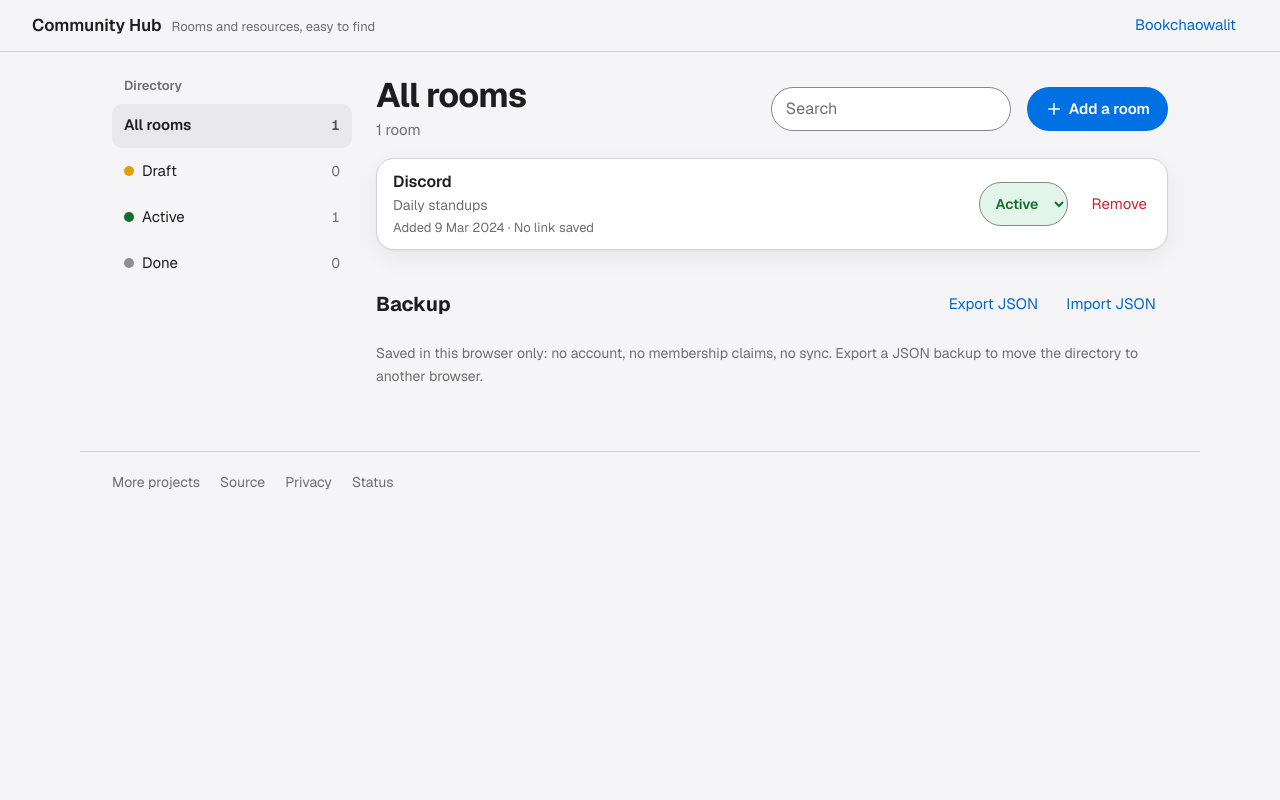
Test: state, search, remove and undo › Escape closes the toast
Step 1. Click the button with aria-label "Remove Discord" → [1119, 204], box [1080,182,1159,226]
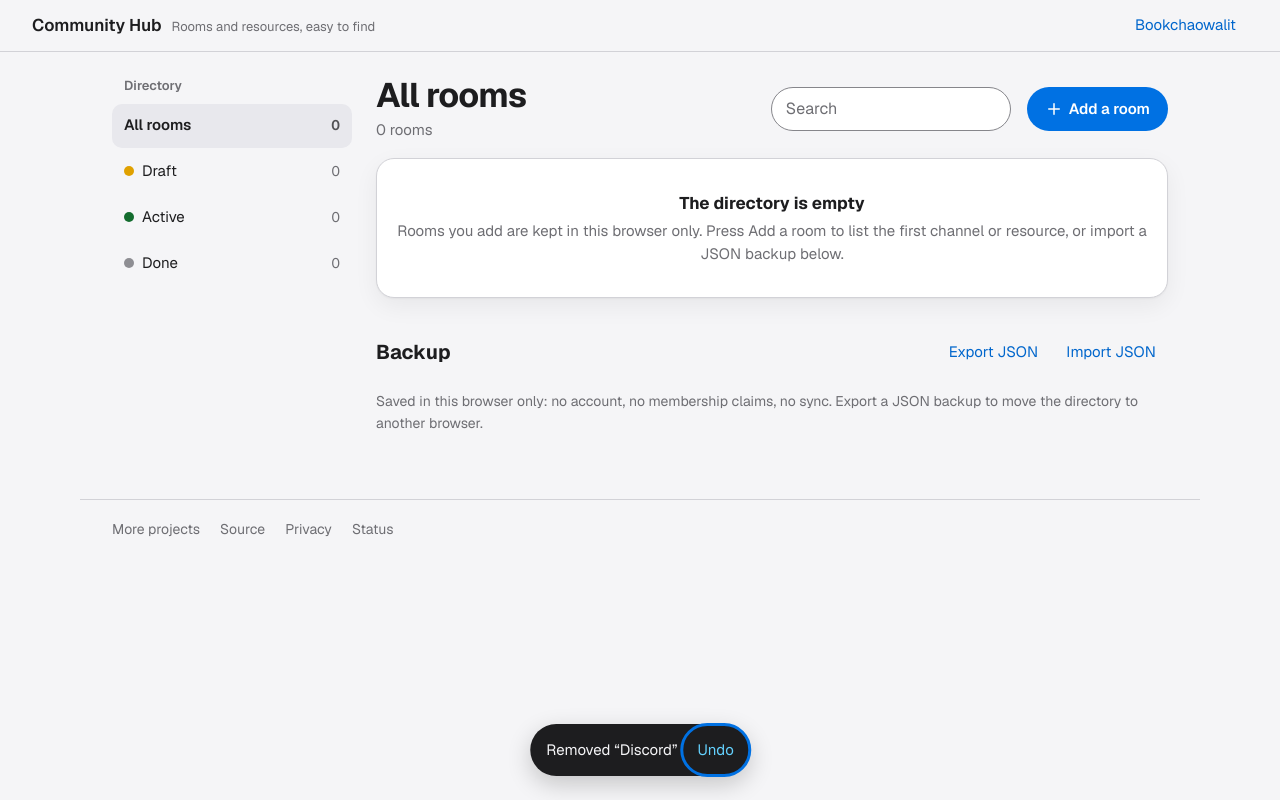
Step 2. Press Escape in the element with class "as-toast", box [530,724,750,776]
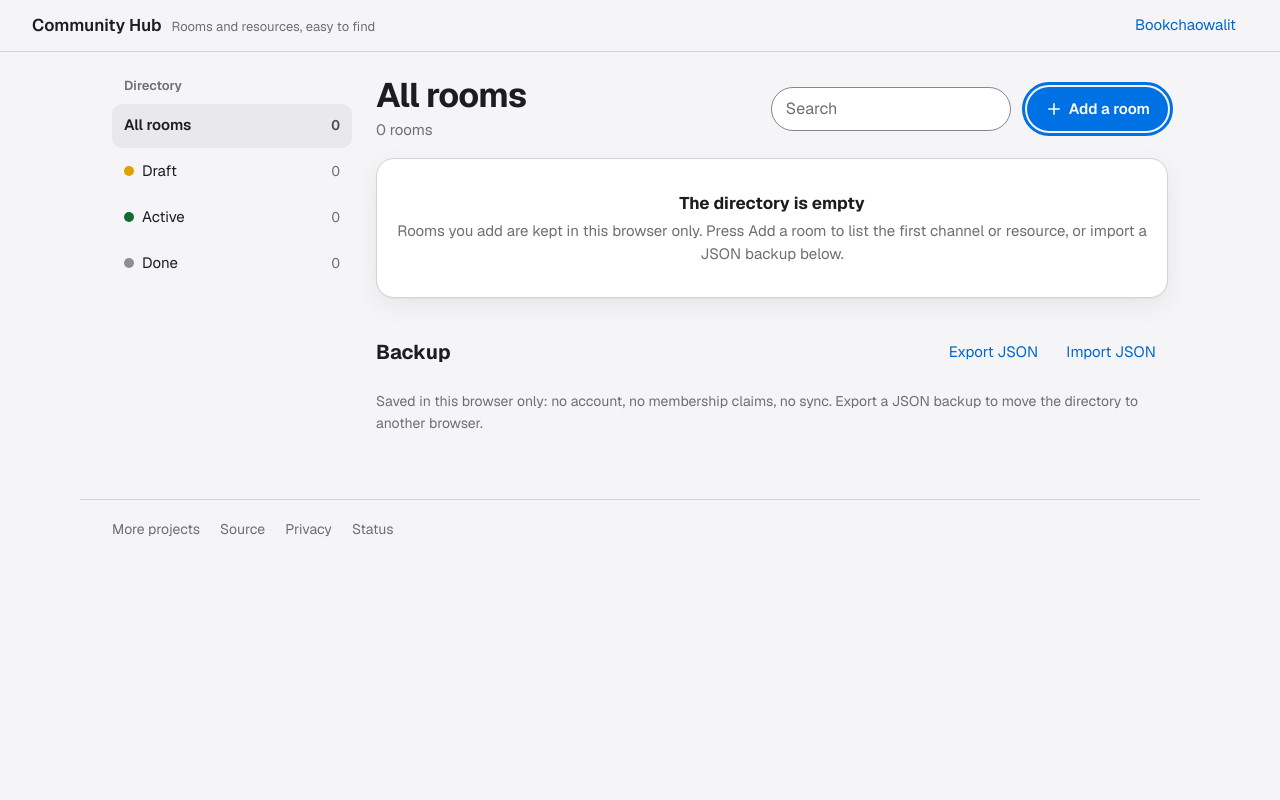
Result: the element with class "as-toast" is gone
